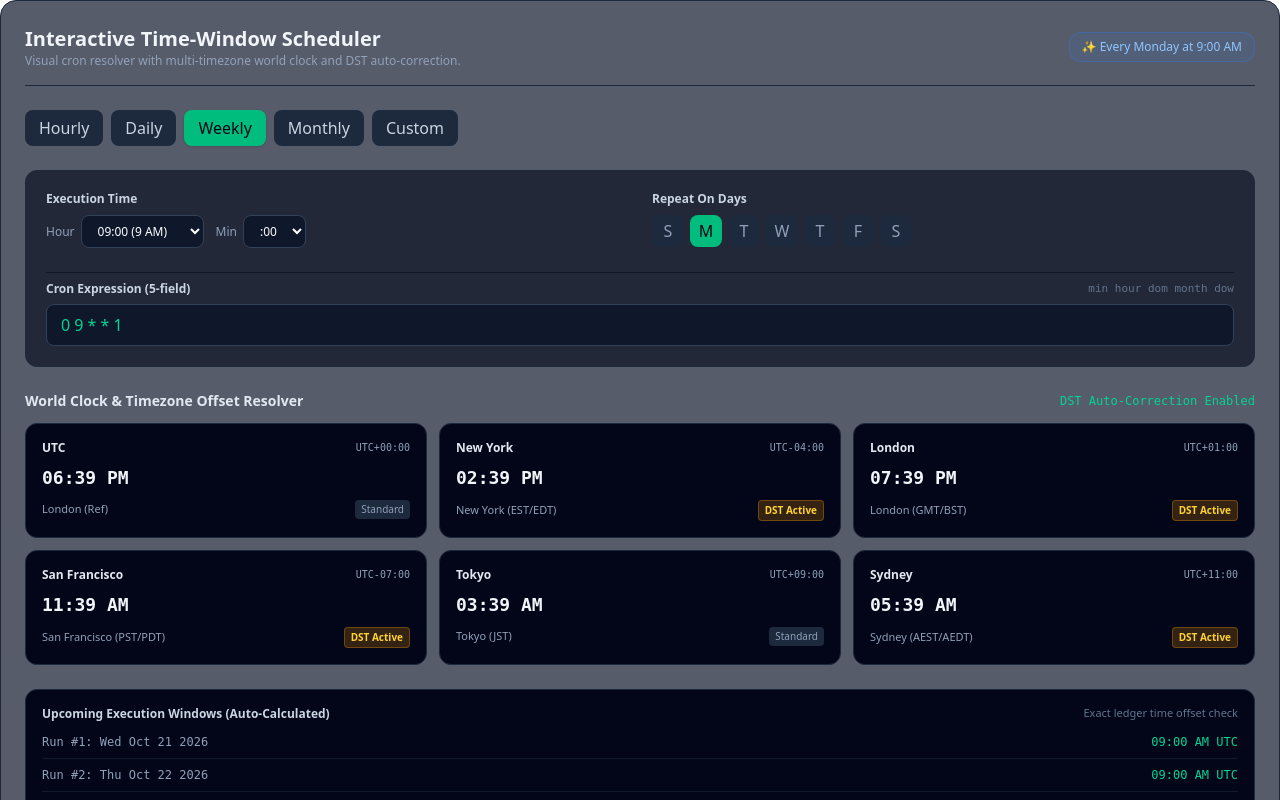
Test: CronScheduler › updates cron expression when preset changes
Step 1. Click the button "hourly" → coordinates (64, 128), box [25,110,103,146]
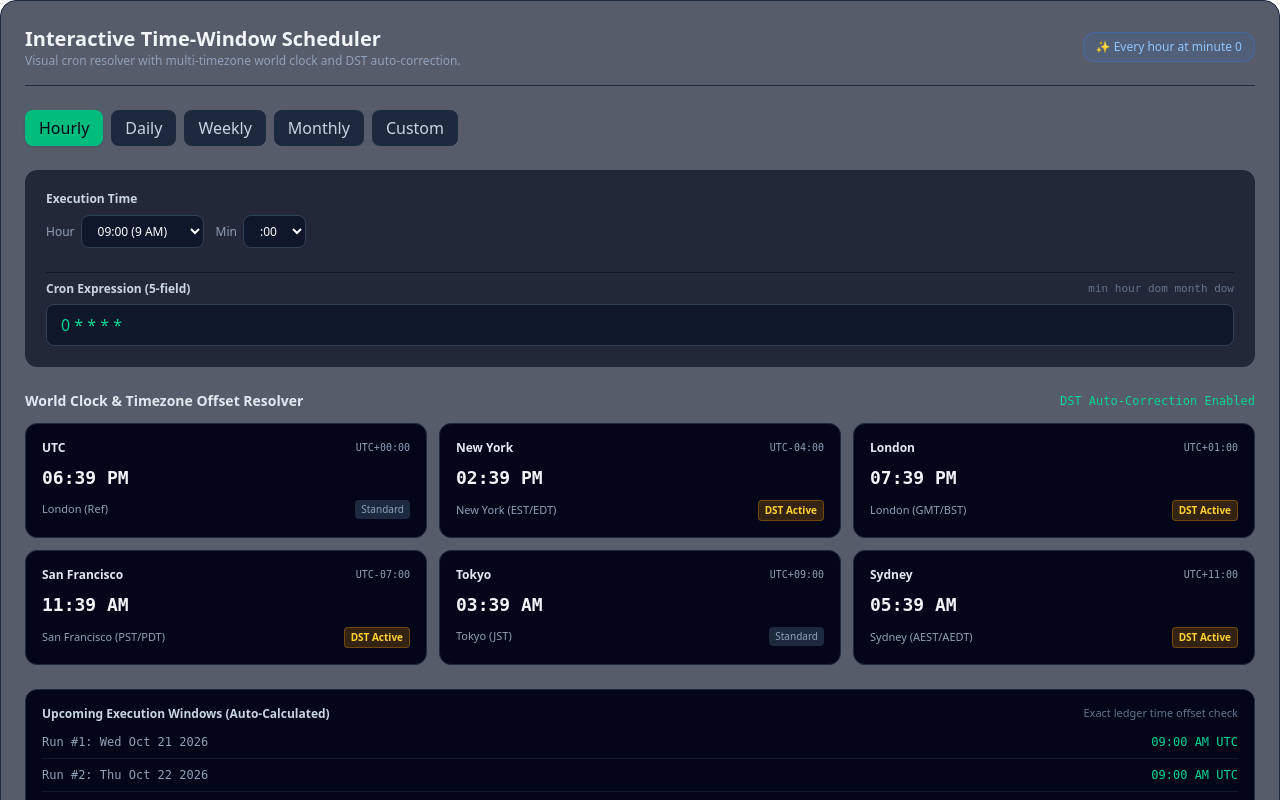
Now the field with placeholder "* * * * *" holds "0 * * * *", box [46,304,1234,346]
